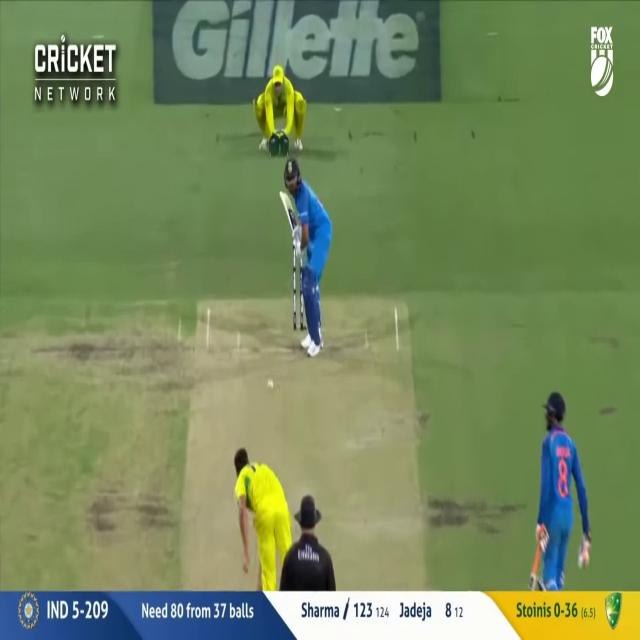ball: (268, 379, 275, 389)
stump: (292, 245, 307, 330)
